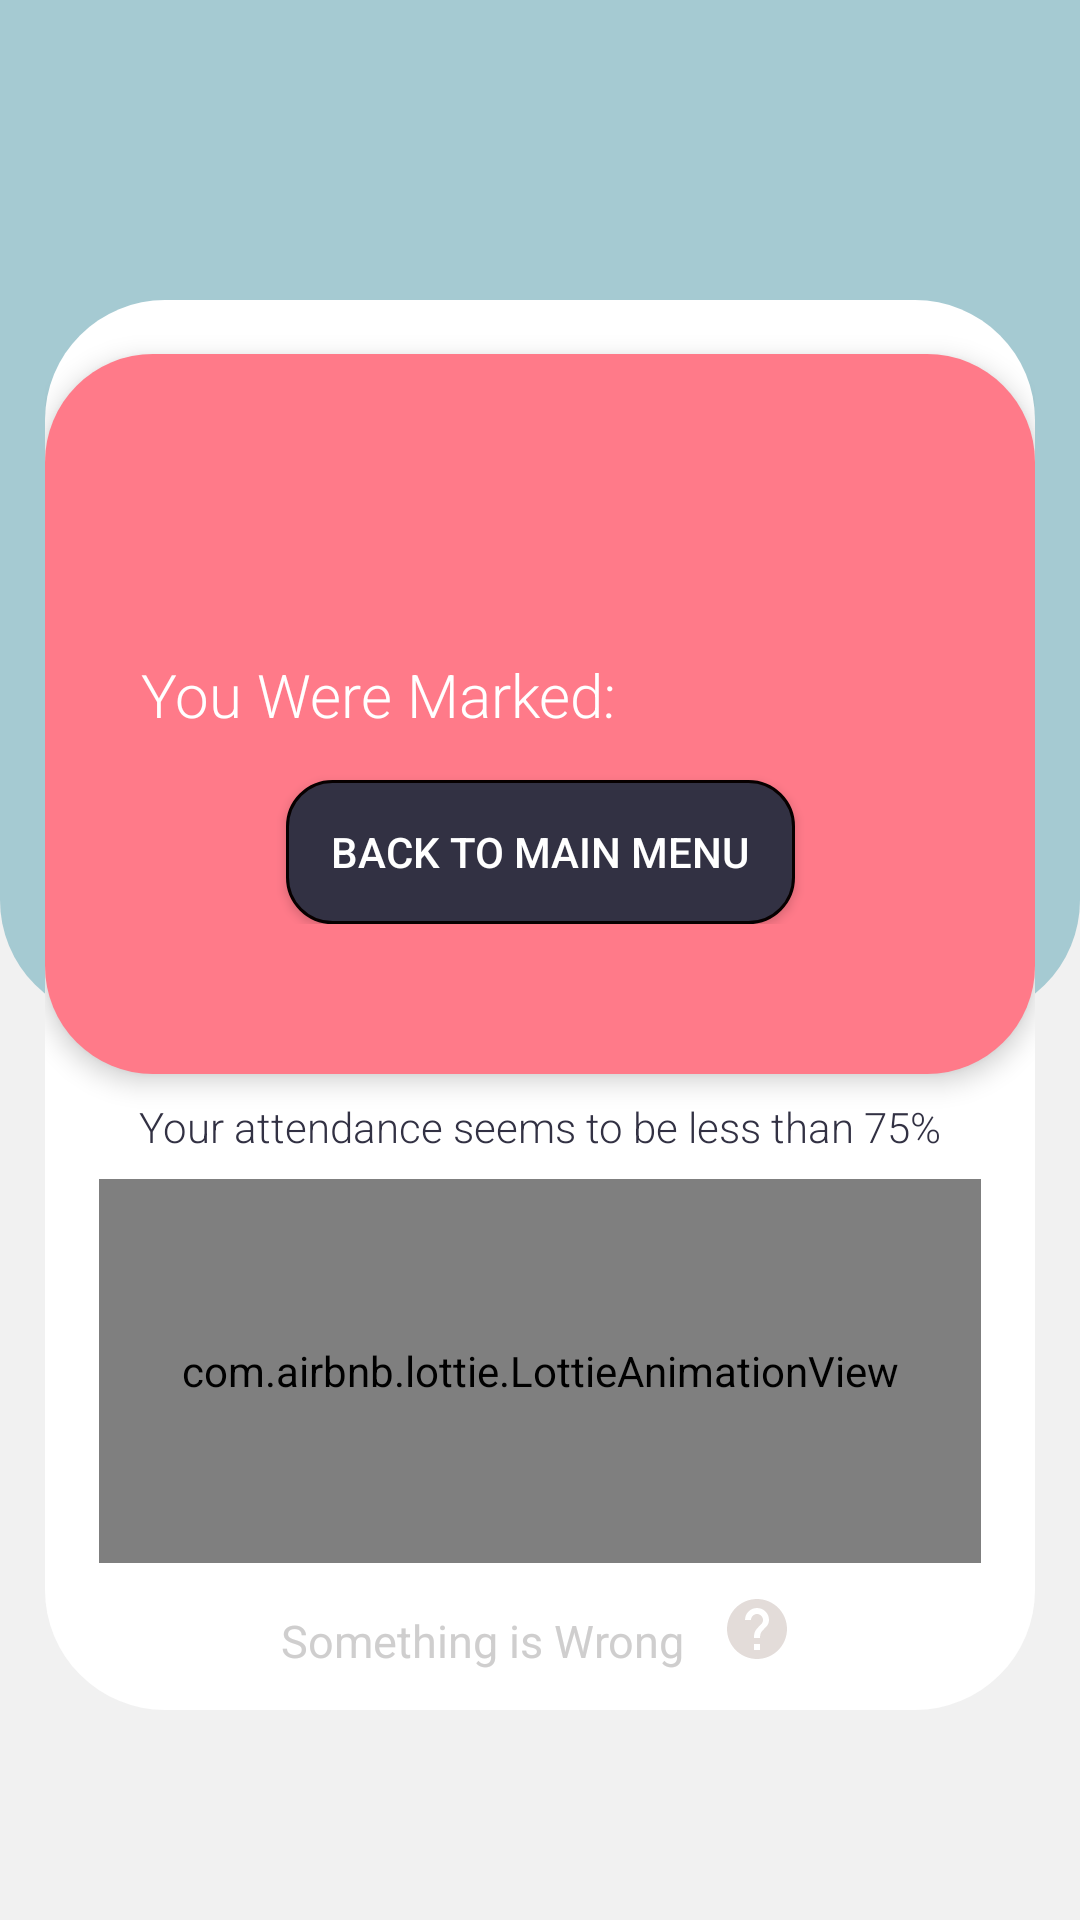

Screen size 1080x1920. Icon name, then its box in pixels as (x1, y1, x2, y2):
help: (727, 1599, 787, 1659)
